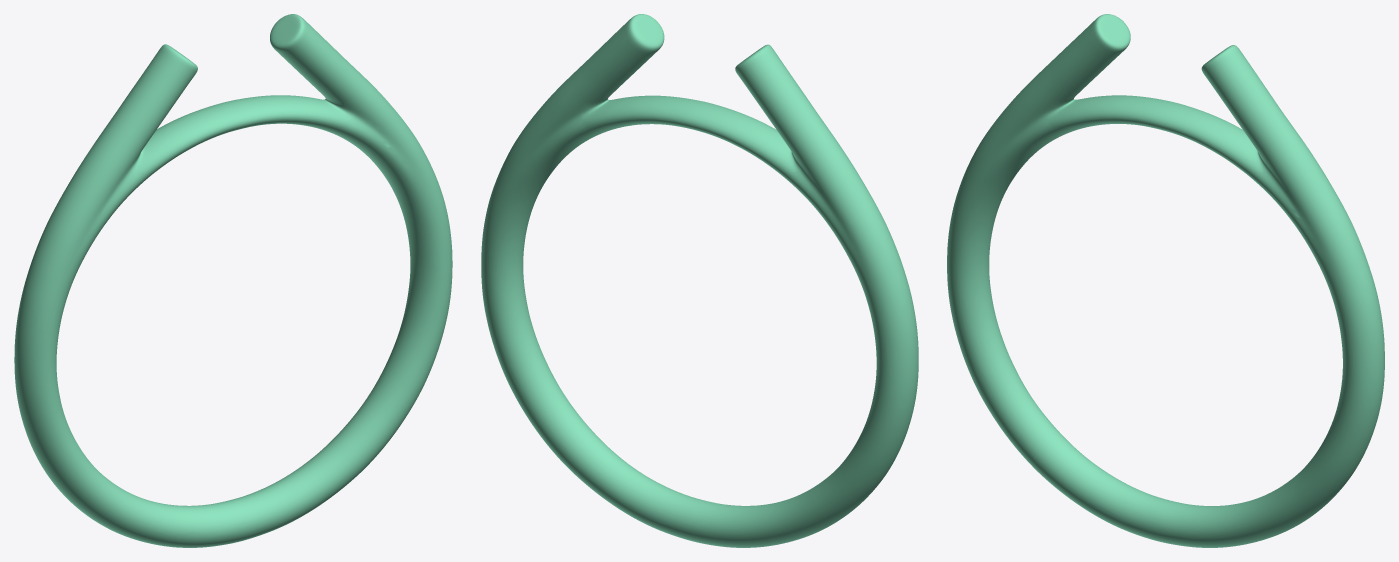
The picture shows the model from 3 angles, left to right: view 1: azimuth 30°, elevation 25°; view 2: azimuth 150°, elevation 25°; view 3: azimuth 330°, elevation 25°; orthographic projection.
Visible parts, largest first — view 1: Metal02; view 2: Metal02; view 3: Metal02.
Boxes of the visible parts, x1,y1,x2,y2 form: Metal02: [14, 14, 452, 547]; Metal02: [481, 14, 918, 547]; Metal02: [947, 14, 1384, 547].
Size of the model in its own units: 20.82 by 23.44 by 1.99.
